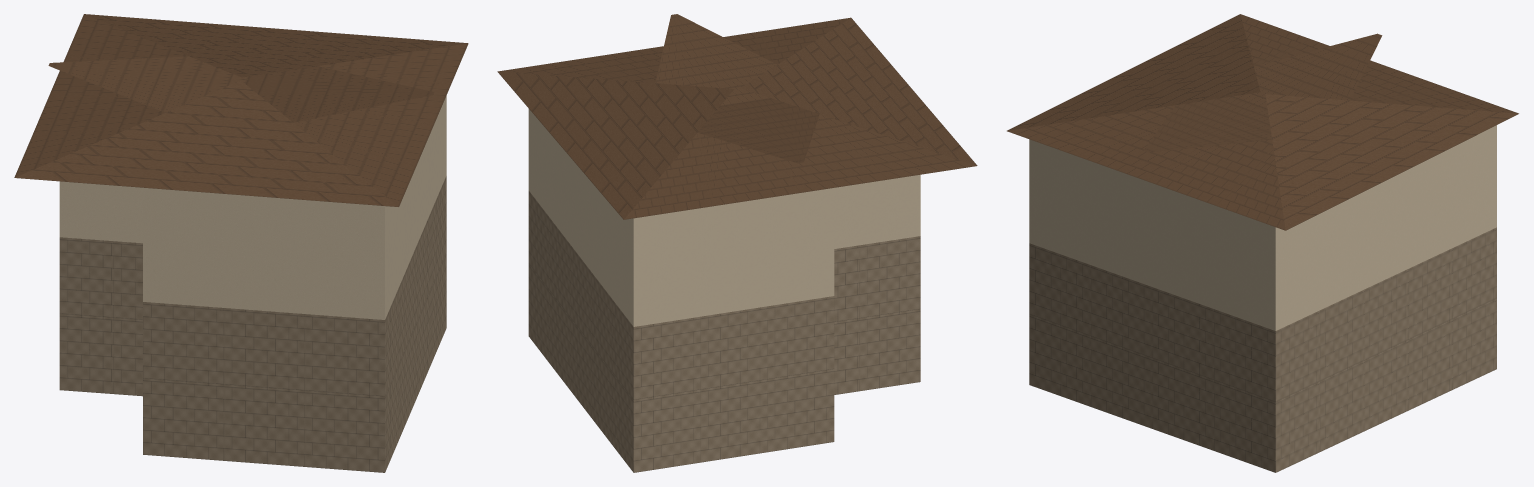
File: bld_c40_47_192.gltf
3 views of the same model, side by side, from view 1: azimuth 30°, elevation 25°; view 2: azimuth 150°, elevation 25°; view 3: azimuth 270°, elevation 25° (orthographic). The views are drawn at different scales.
Visible parts, largest first — view 1: bld_c40_47_192; view 2: bld_c40_47_192; view 3: bld_c40_47_192.
Boxes of the visible parts, x1=… form: bld_c40_47_192: x1=14, y1=14, x2=468, y2=472; bld_c40_47_192: x1=497, y1=14, x2=977, y2=472; bld_c40_47_192: x1=1007, y1=14, x2=1518, y2=472.
Bounding box in the file's own units: 15.88 × 9.7 × 15.89.
Materials: 3 (3 with a texture image).
